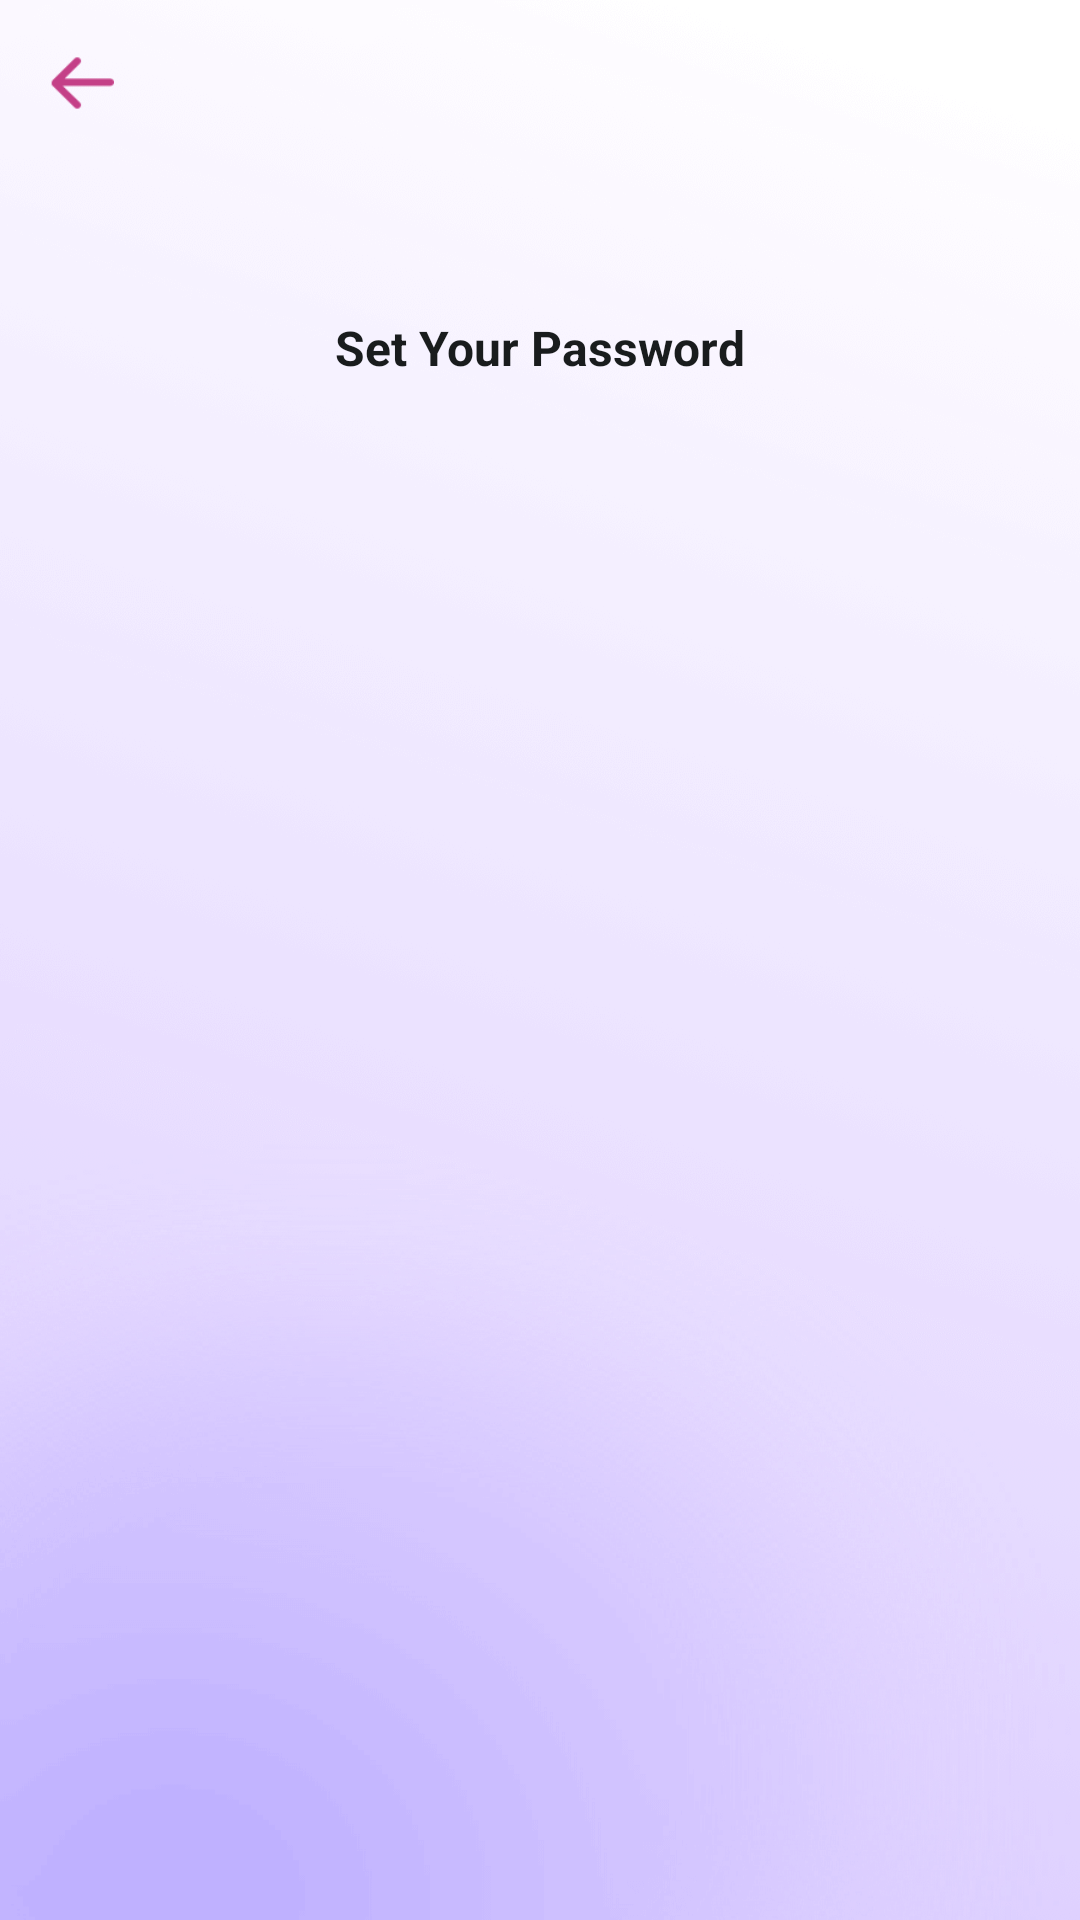

Icons on this 1080 × 1920 Android screen, each with its box as (x1, y1, x2, y2):
back: (51, 57, 114, 109)
